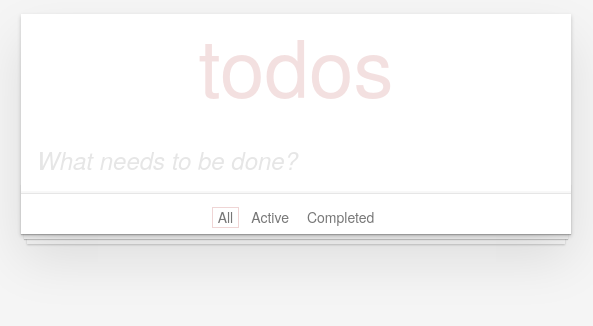
it: adds a new task
In the field with placeholder "What needs to be done?": [296, 160] box [21,127,571,193], type "New Task"
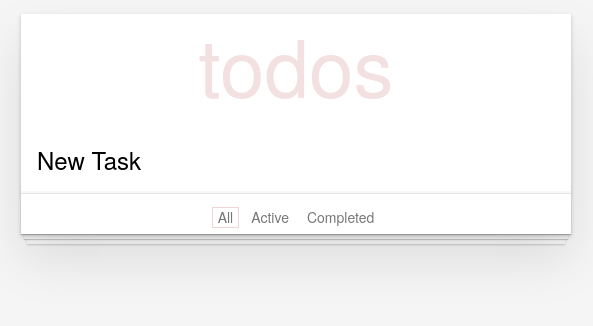
Submit the form from the field with placeholder "What needs to be done?", box [21,127,571,193]
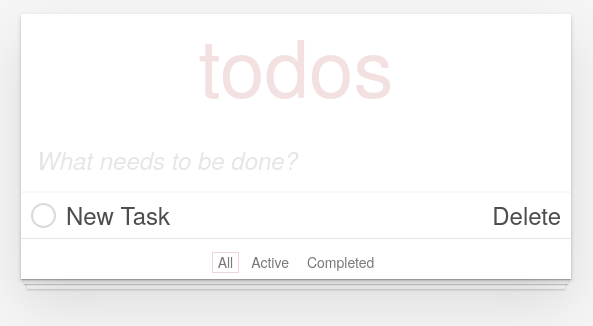
Result: the text "New Task" is shown at [66,198,170,232]
